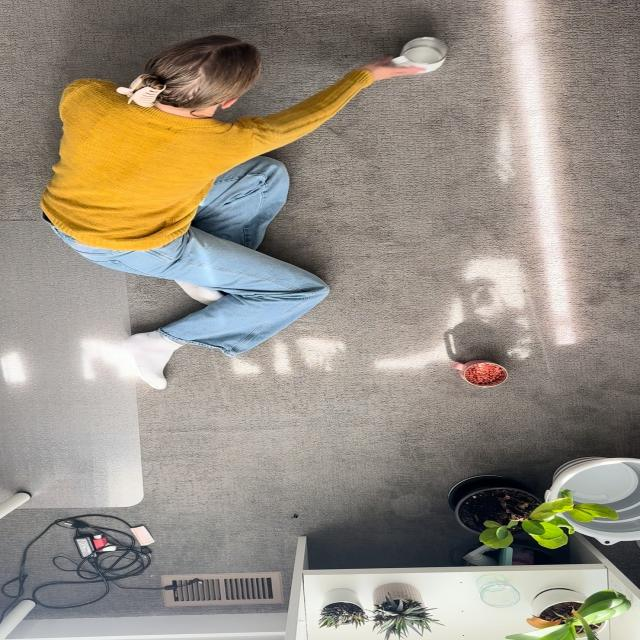IBC: (392, 37, 447, 72), (452, 360, 507, 387)
